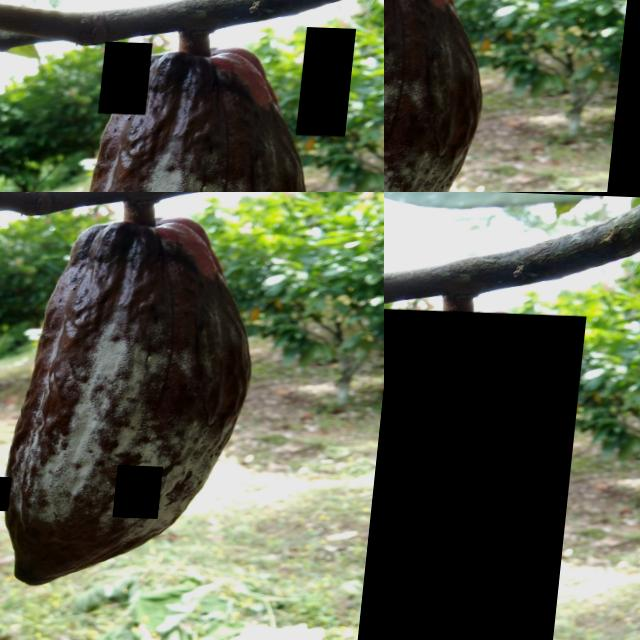Fitoftora: (3, 578, 90, 626), (122, 462, 171, 515)
Monilia: (384, 305, 589, 640)
Sana: (161, 484, 298, 640), (23, 475, 110, 587), (300, 23, 358, 133), (279, 477, 329, 570), (102, 39, 155, 112), (398, 0, 467, 46), (191, 455, 245, 510), (114, 408, 155, 449), (539, 17, 563, 44), (0, 474, 19, 508), (434, 63, 457, 86), (393, 91, 411, 116), (427, 114, 443, 137), (11, 477, 27, 500), (484, 45, 494, 60), (483, 33, 488, 50)
